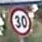limite 30: (8, 5, 31, 37)
